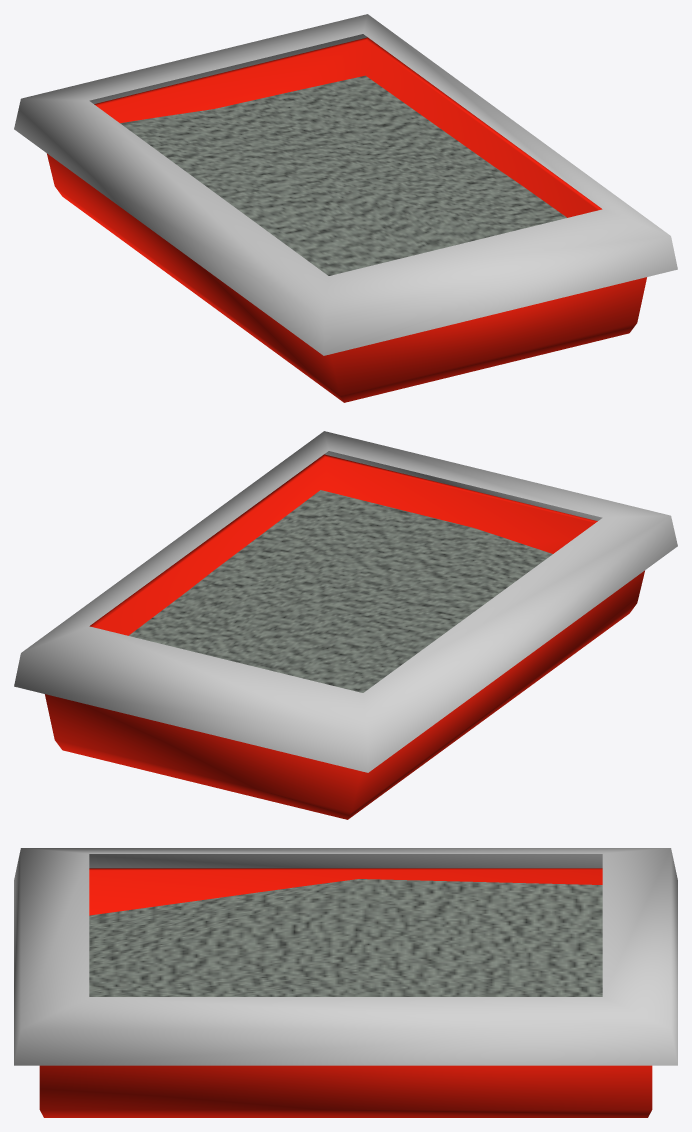
File: Kitty_Box_D.FBX
3 views of the same model, one above another, from view 1: azimuth 30°, elevation 25°; view 2: azimuth 150°, elevation 25°; view 3: azimuth 270°, elevation 25° (orthographic). The views are drawn at different scales.
Visible parts, largest first — view 1: Kitty Box; view 2: Kitty Box; view 3: Kitty Box.
Boxes of the visible parts, x1,y1,x2,y2 form: Kitty Box: (14,14,677,402); Kitty Box: (14,431,677,819); Kitty Box: (14,848,677,1117).
Bounding box in the file's own units: 107 × 32.85 × 163.
